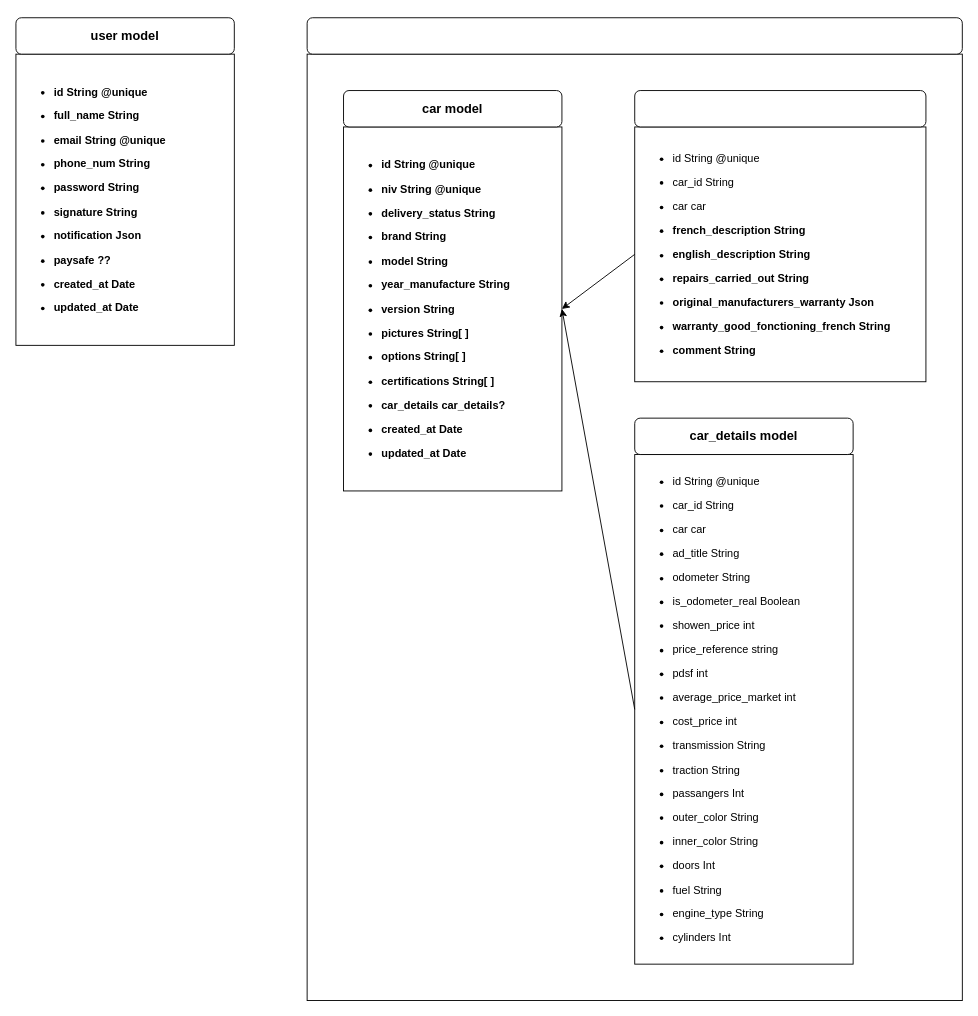
Image size: 978x1016. Some labels were removed from this diagram. The box of each missing label's shape, as (x1, y1, x2, y2) in pixels:
car: (306, 17, 962, 54)
car_description model: (634, 90, 926, 127)
